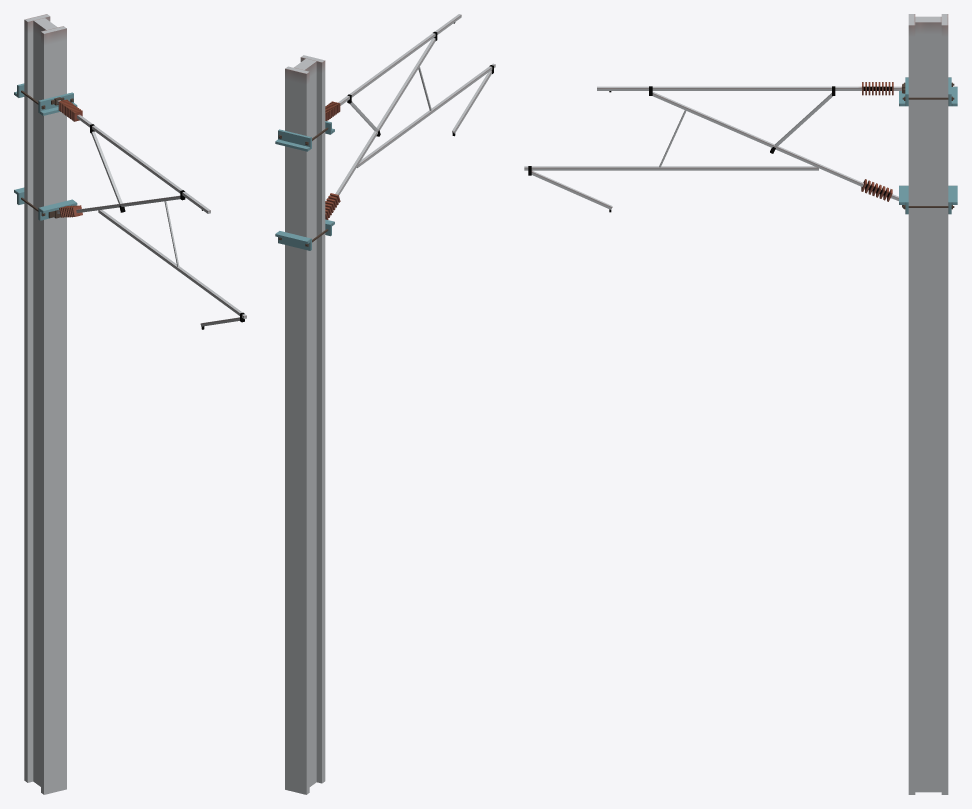
The model's file is catenary_a_anti.obj.
3 views of the same model, side by side, from view 1: azimuth 30°, elevation 25°; view 2: azimuth 150°, elevation 25°; view 3: azimuth 270°, elevation 25° (orthographic). The views are drawn at different scales.
Parts seen in each view (by area): view 1: catenary_anti; view 2: catenary_anti; view 3: catenary_anti.
Boxes of the visible parts, x1,y1,x2,y2 form: catenary_anti: (14, 14, 246, 794); catenary_anti: (275, 14, 495, 794); catenary_anti: (524, 14, 957, 794).
Size of the model in its own units: 0.375 by 8 by 4.08.
Materials: 1 (1 with a texture image).
